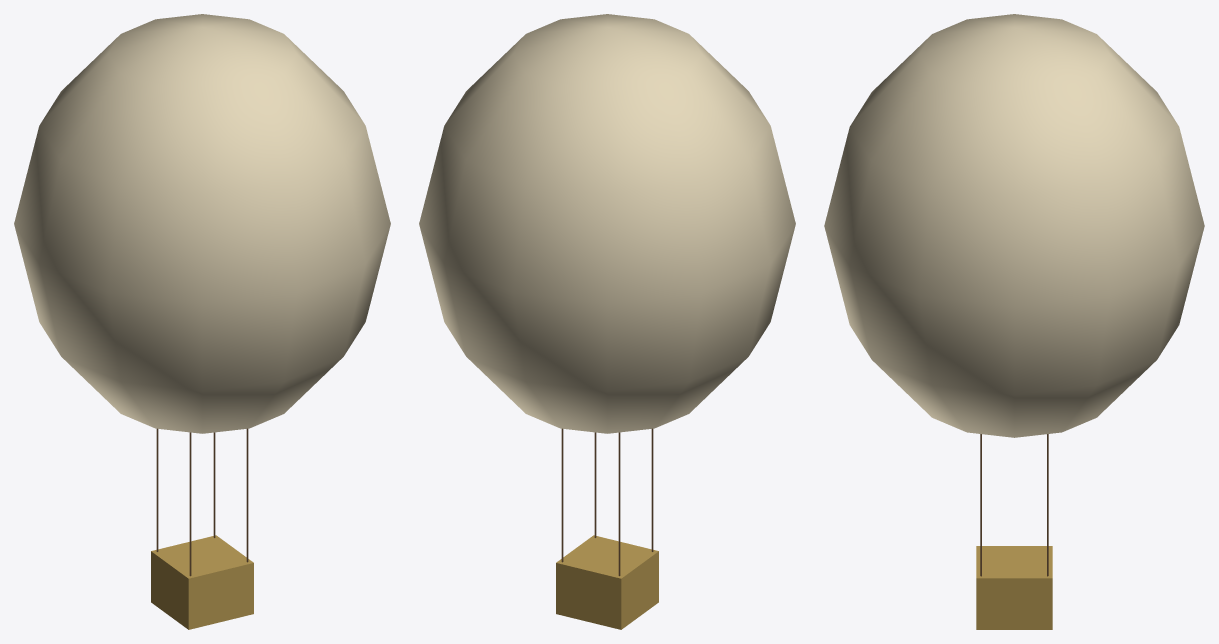
The model's file is veh_air_balloon_a04.glb.
3 views of the same model, side by side, from view 1: azimuth 30°, elevation 25°; view 2: azimuth 150°, elevation 25°; view 3: azimuth 270°, elevation 25° (orthographic).
Visible parts, largest first — view 1: body; view 2: body; view 3: body.
Part boxes in pixels (left/top/right/bottom): body: left=14, top=14, right=390, bottom=629; body: left=419, top=14, right=795, bottom=629; body: left=824, top=14, right=1204, bottom=629.
Size of what is drawn, in the model's own units: 8 by 13.6 by 8.
